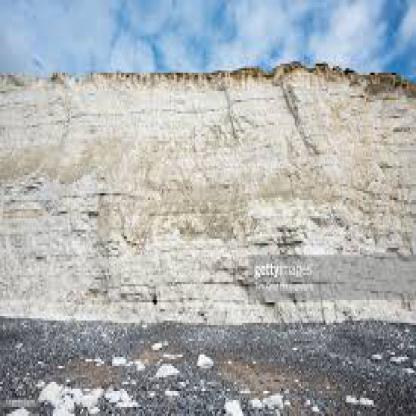Sedimentary_Chalk: (36, 380, 67, 407), (256, 387, 284, 409), (345, 389, 375, 409), (153, 355, 180, 377), (222, 396, 245, 414), (196, 346, 212, 370)
